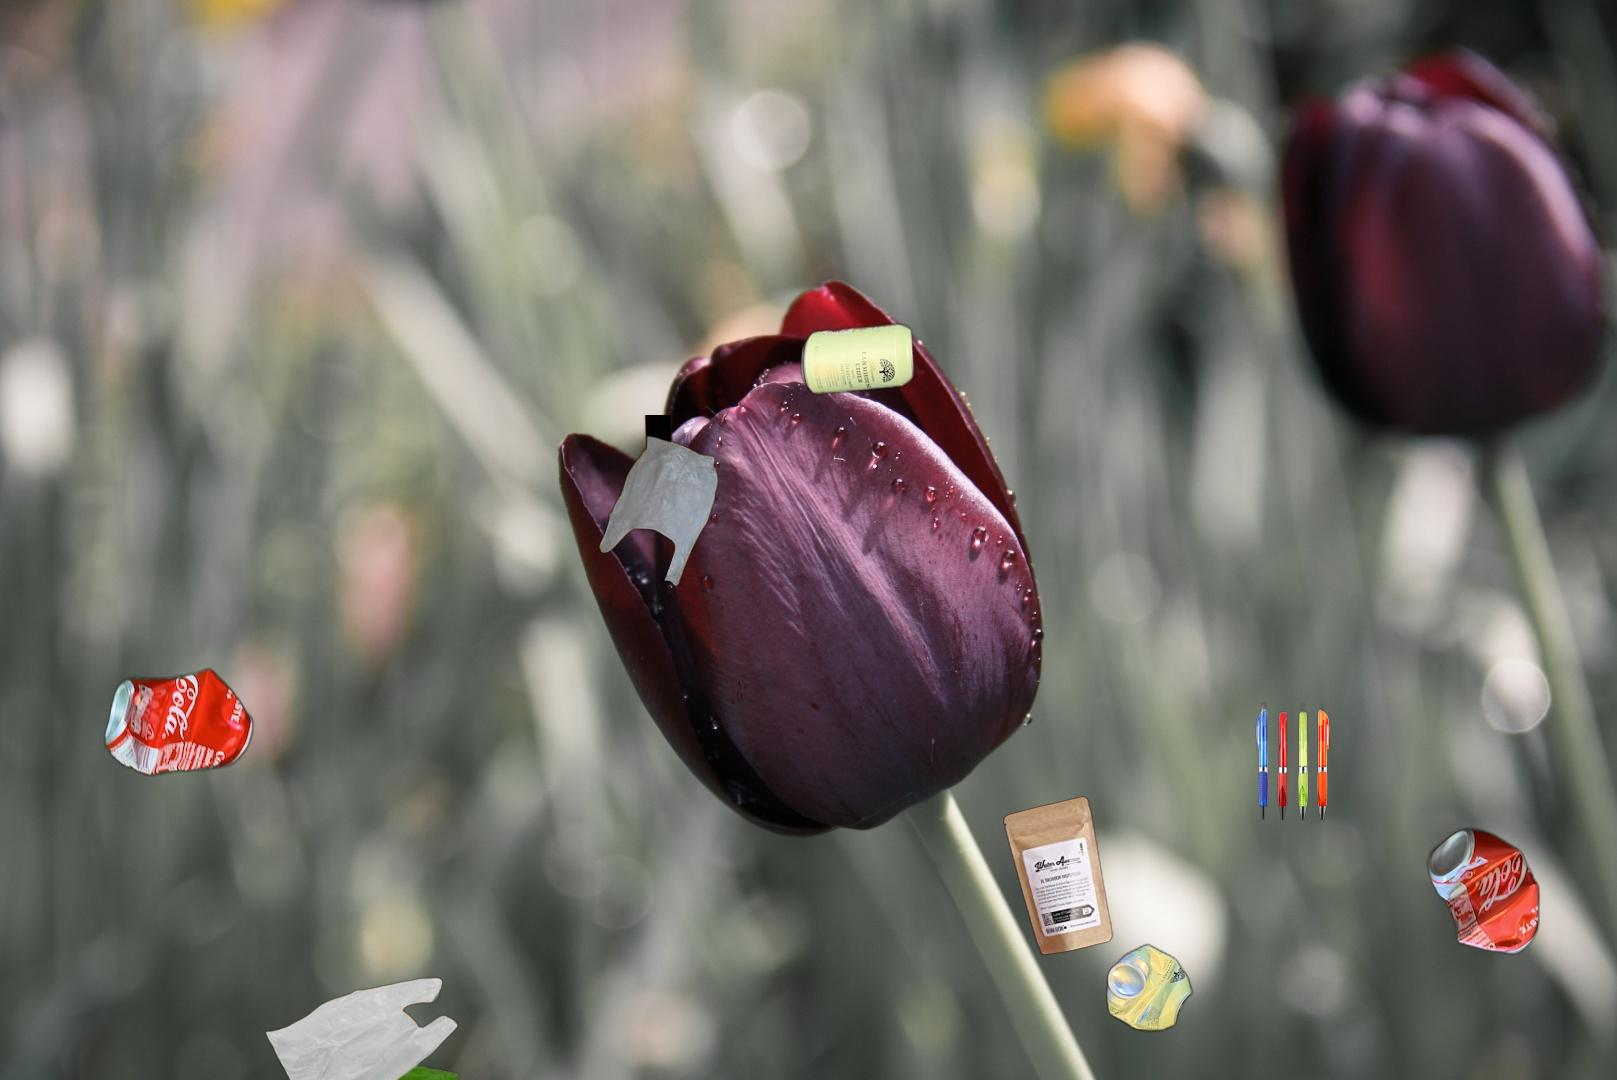metal-cans: (99, 662, 258, 782), (1424, 823, 1543, 960), (797, 318, 919, 401), (1101, 940, 1198, 1037)
penholder: (1253, 701, 1365, 847)
plastic-bag: (596, 415, 805, 715), (263, 975, 460, 1080)
trashbox-cardboard: (724, 657, 1166, 958)
